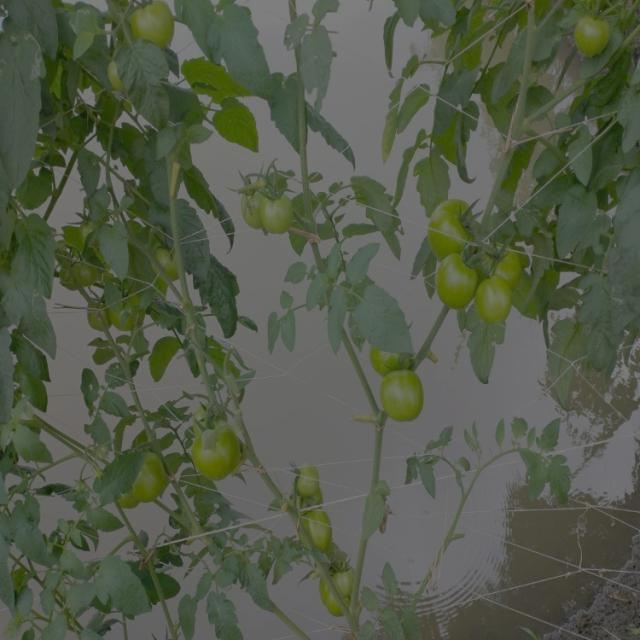tomato: (189, 423, 245, 483), (426, 198, 478, 248), (376, 377, 430, 422), (129, 8, 180, 53), (434, 259, 478, 309), (292, 515, 343, 550), (478, 239, 516, 281), (364, 351, 418, 377), (582, 18, 617, 58), (266, 195, 300, 236), (479, 283, 516, 319), (137, 459, 173, 495), (287, 470, 323, 501), (78, 261, 107, 292), (104, 65, 131, 98), (243, 189, 263, 233), (320, 583, 345, 618), (159, 248, 181, 272), (59, 265, 75, 298), (335, 561, 355, 584), (83, 313, 109, 330), (109, 311, 136, 327), (121, 494, 140, 510)
